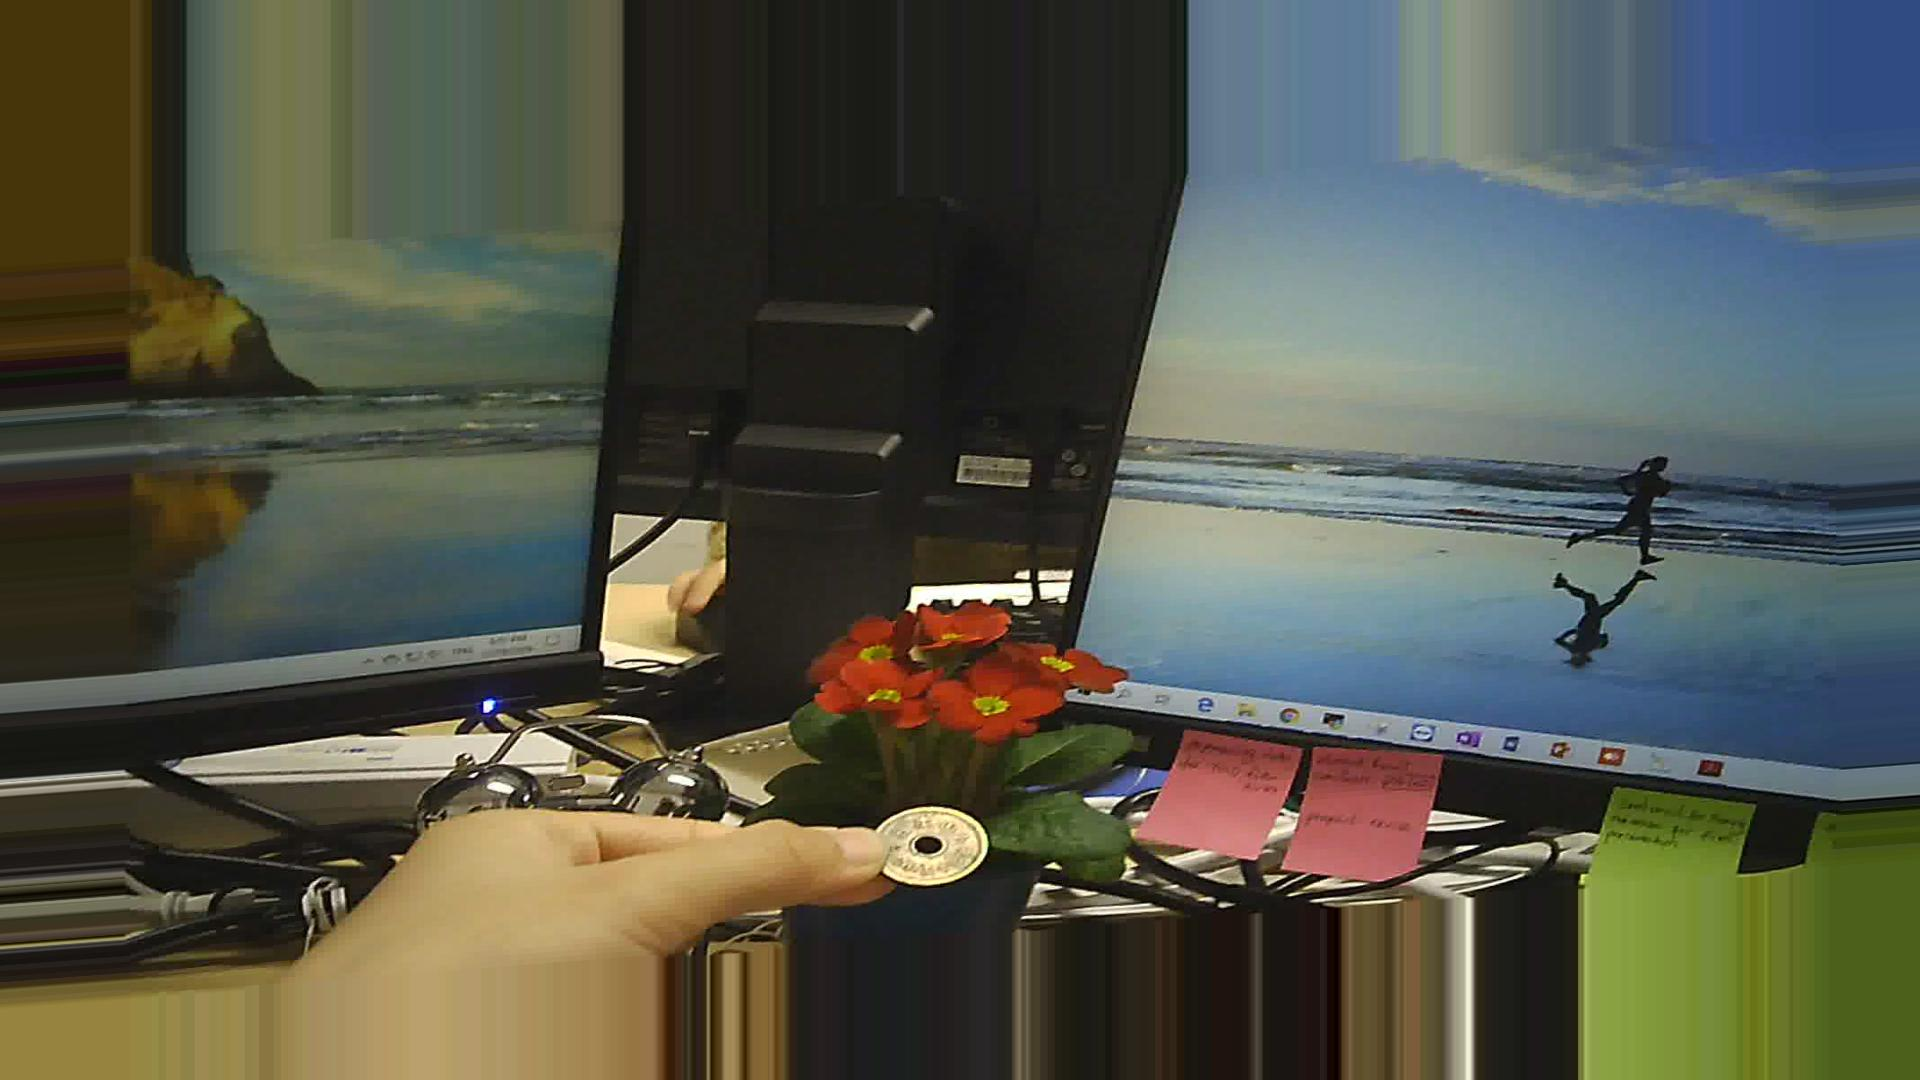5 Yen: (868, 806, 989, 894)
